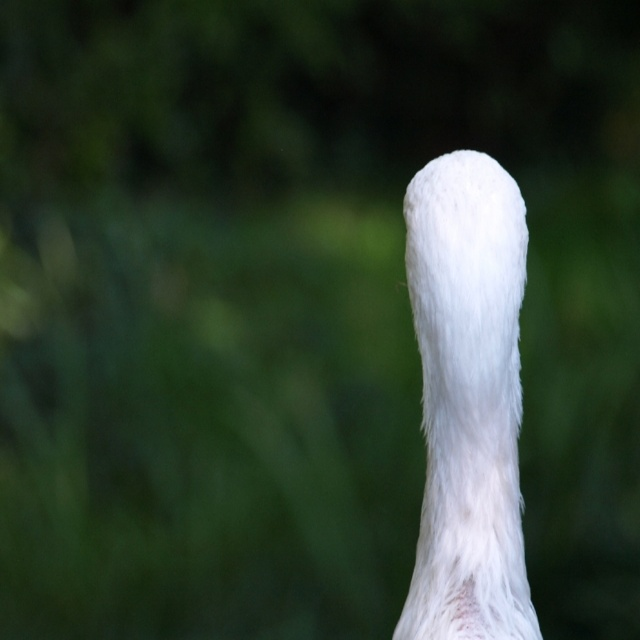Goose: (390, 146, 541, 637)
